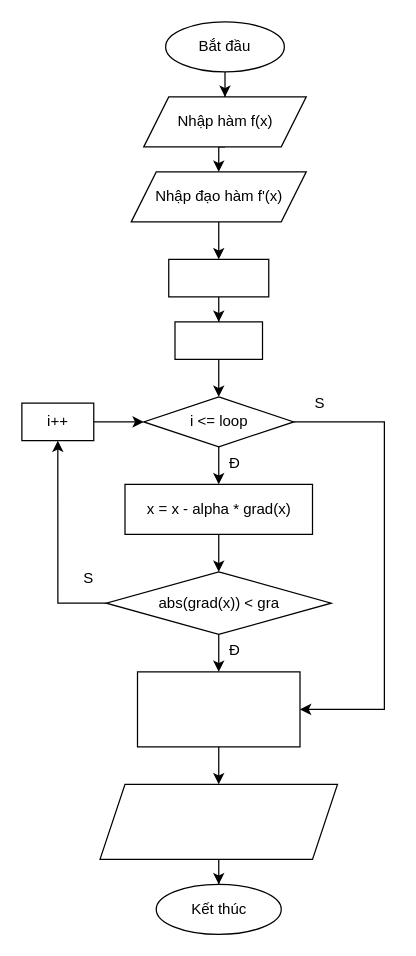
Image size: 416x956. Some labels were removed from this diagram. Each missing label, with the centre of its shape:
i = 1: the point at 218,340
In ra kết quả x_min, y_min: the point at 218,821
x0 = 0: the point at 218,277
x_min = x; y_min = f(x_min): the point at 218,709
